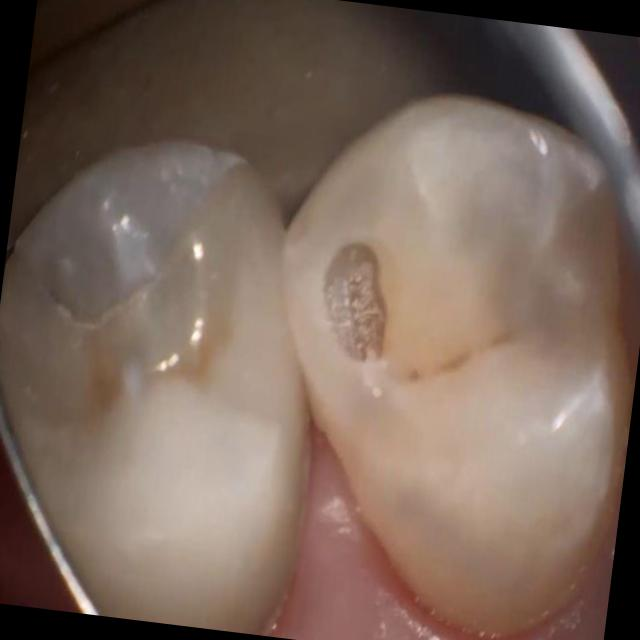Cavity: (40, 170, 205, 326), (322, 241, 385, 364)
Tooth: (279, 91, 631, 637), (0, 135, 314, 634)
